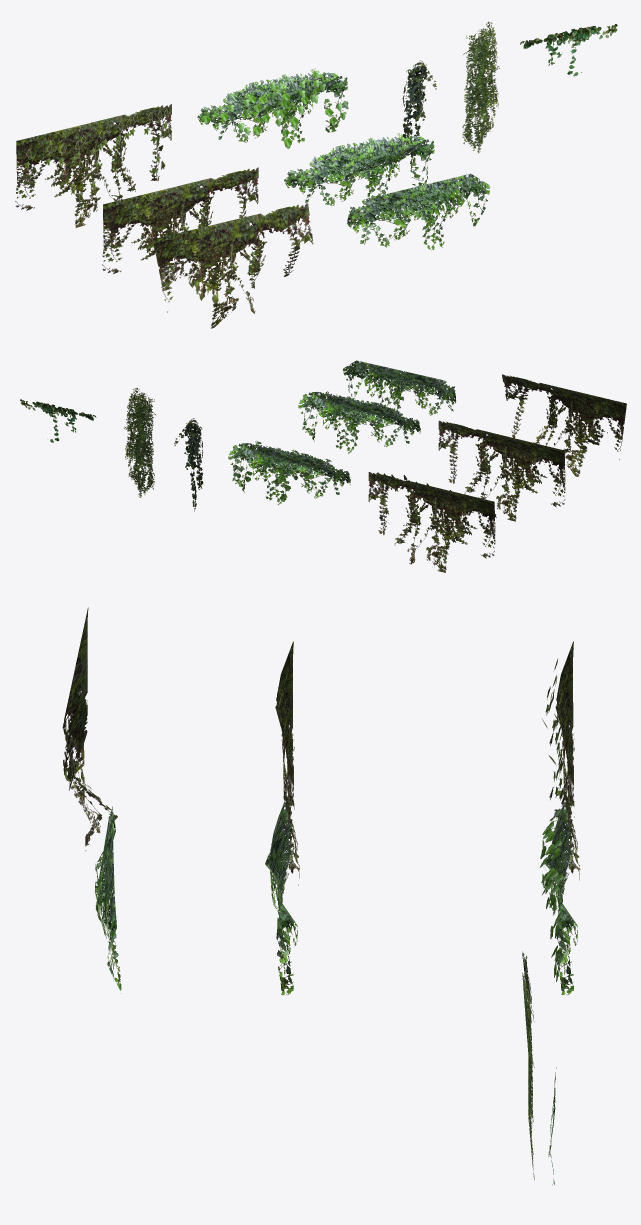
File: VINES.glb
3 renders of one model, top to bottom at view 1: azimuth 30°, elevation 25°; view 2: azimuth 150°, elevation 25°; view 3: azimuth 270°, elevation 25°, orthographic. The views are drawn at different scales.
Visible parts, largest first — view 1: ivy 1 lod 0_6, ivy 1 lod 2_8, ivy 1 lod 1_5, ivy 2 lod 0_4, ivy 2 lod 1_3, ivy 2 lod 2_7, small ivy_2, small ivy.001_1, small ivy.002_0; view 2: ivy 1 lod 0_6, ivy 1 lod 1_5, ivy 1 lod 2_8, ivy 2 lod 0_4, ivy 2 lod 1_3, ivy 2 lod 2_7, small ivy_2, small ivy.001_1, small ivy.002_0; view 3: ivy 2 lod 0_4, ivy 1 lod 2_8, ivy 1 lod 0_6, ivy 2 lod 1_3, ivy 1 lod 1_5, ivy 2 lod 2_7, small ivy_2.
Part boxes in pixels (bbox=[...]): ivy 1 lod 0_6: bbox=[15, 104, 172, 227]; ivy 1 lod 2_8: bbox=[153, 203, 313, 328]; ivy 1 lod 1_5: bbox=[102, 167, 258, 291]; ivy 2 lod 0_4: bbox=[197, 68, 348, 149]; ivy 2 lod 1_3: bbox=[284, 133, 434, 205]; ivy 2 lod 2_7: bbox=[347, 173, 490, 250]; small ivy_2: bbox=[462, 21, 499, 153]; small ivy.001_1: bbox=[402, 60, 436, 169]; small ivy.002_0: bbox=[520, 24, 617, 76]; ivy 1 lod 0_6: bbox=[368, 472, 496, 572]; ivy 1 lod 1_5: bbox=[438, 420, 565, 521]; ivy 1 lod 2_8: bbox=[502, 374, 626, 476]; ivy 2 lod 0_4: bbox=[228, 440, 350, 505]; ivy 2 lod 1_3: bbox=[298, 391, 420, 453]; ivy 2 lod 2_7: bbox=[343, 360, 455, 420]; small ivy_2: bbox=[123, 388, 155, 497]; small ivy.001_1: bbox=[174, 418, 203, 511]; small ivy.002_0: bbox=[20, 399, 96, 442]; ivy 2 lod 0_4: bbox=[539, 802, 577, 995]; ivy 1 lod 2_8: bbox=[62, 607, 117, 851]; ivy 1 lod 0_6: bbox=[541, 641, 580, 880]; ivy 2 lod 1_3: bbox=[265, 802, 297, 995]; ivy 1 lod 1_5: bbox=[275, 641, 299, 885]; ivy 2 lod 2_7: bbox=[94, 806, 121, 993]; small ivy_2: bbox=[522, 969, 534, 1180].
Bounding box in the file's own units: 9.81 × 2.09 × 4.44.
Materials: 1 (1 with a texture image).
